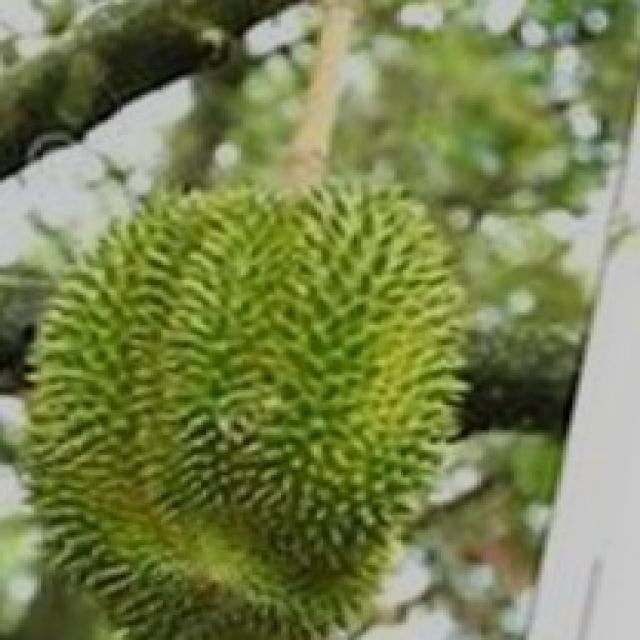fruit: (0, 125, 342, 543)
